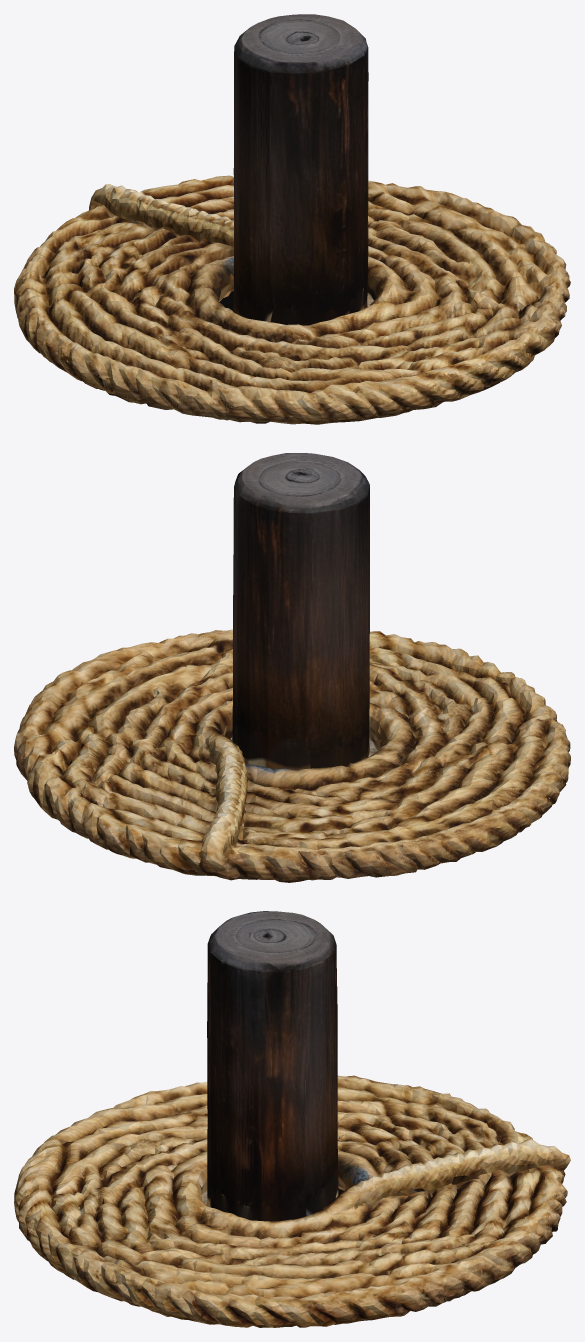
File: traveler_env_coast_cakon_mooring_gear_00001_.glb
The picture shows the model from 3 angles, top to bottom: view 1: azimuth 30°, elevation 25°; view 2: azimuth 150°, elevation 25°; view 3: azimuth 270°, elevation 25°; orthographic projection. The views are drawn at different scales.
Parts seen in each view (by area): view 1: temp_mesh.ply; view 2: temp_mesh.ply; view 3: temp_mesh.ply.
Boxes of the visible parts, x1,y1,x2,y2 form: temp_mesh.ply: (14,14,570,424); temp_mesh.ply: (14,453,570,882); temp_mesh.ply: (14,911,570,1327).
Bounding box in the file's own units: 1.97 × 1.15 × 1.97.
1 material, 1 textured.
